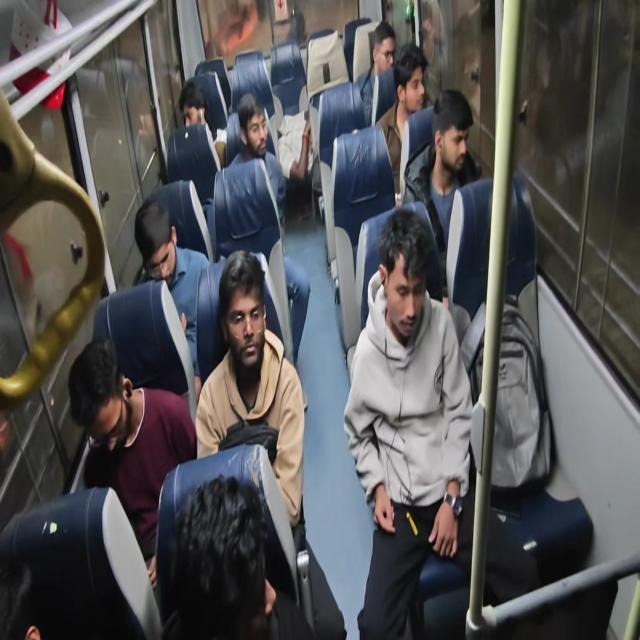person: (203, 276, 293, 458), (172, 491, 255, 640), (426, 89, 510, 226), (0, 516, 66, 640), (132, 186, 193, 320), (78, 347, 129, 503), (262, 99, 318, 208), (371, 229, 428, 330), (233, 94, 278, 174), (362, 32, 403, 91), (171, 80, 210, 136), (397, 56, 422, 122)
